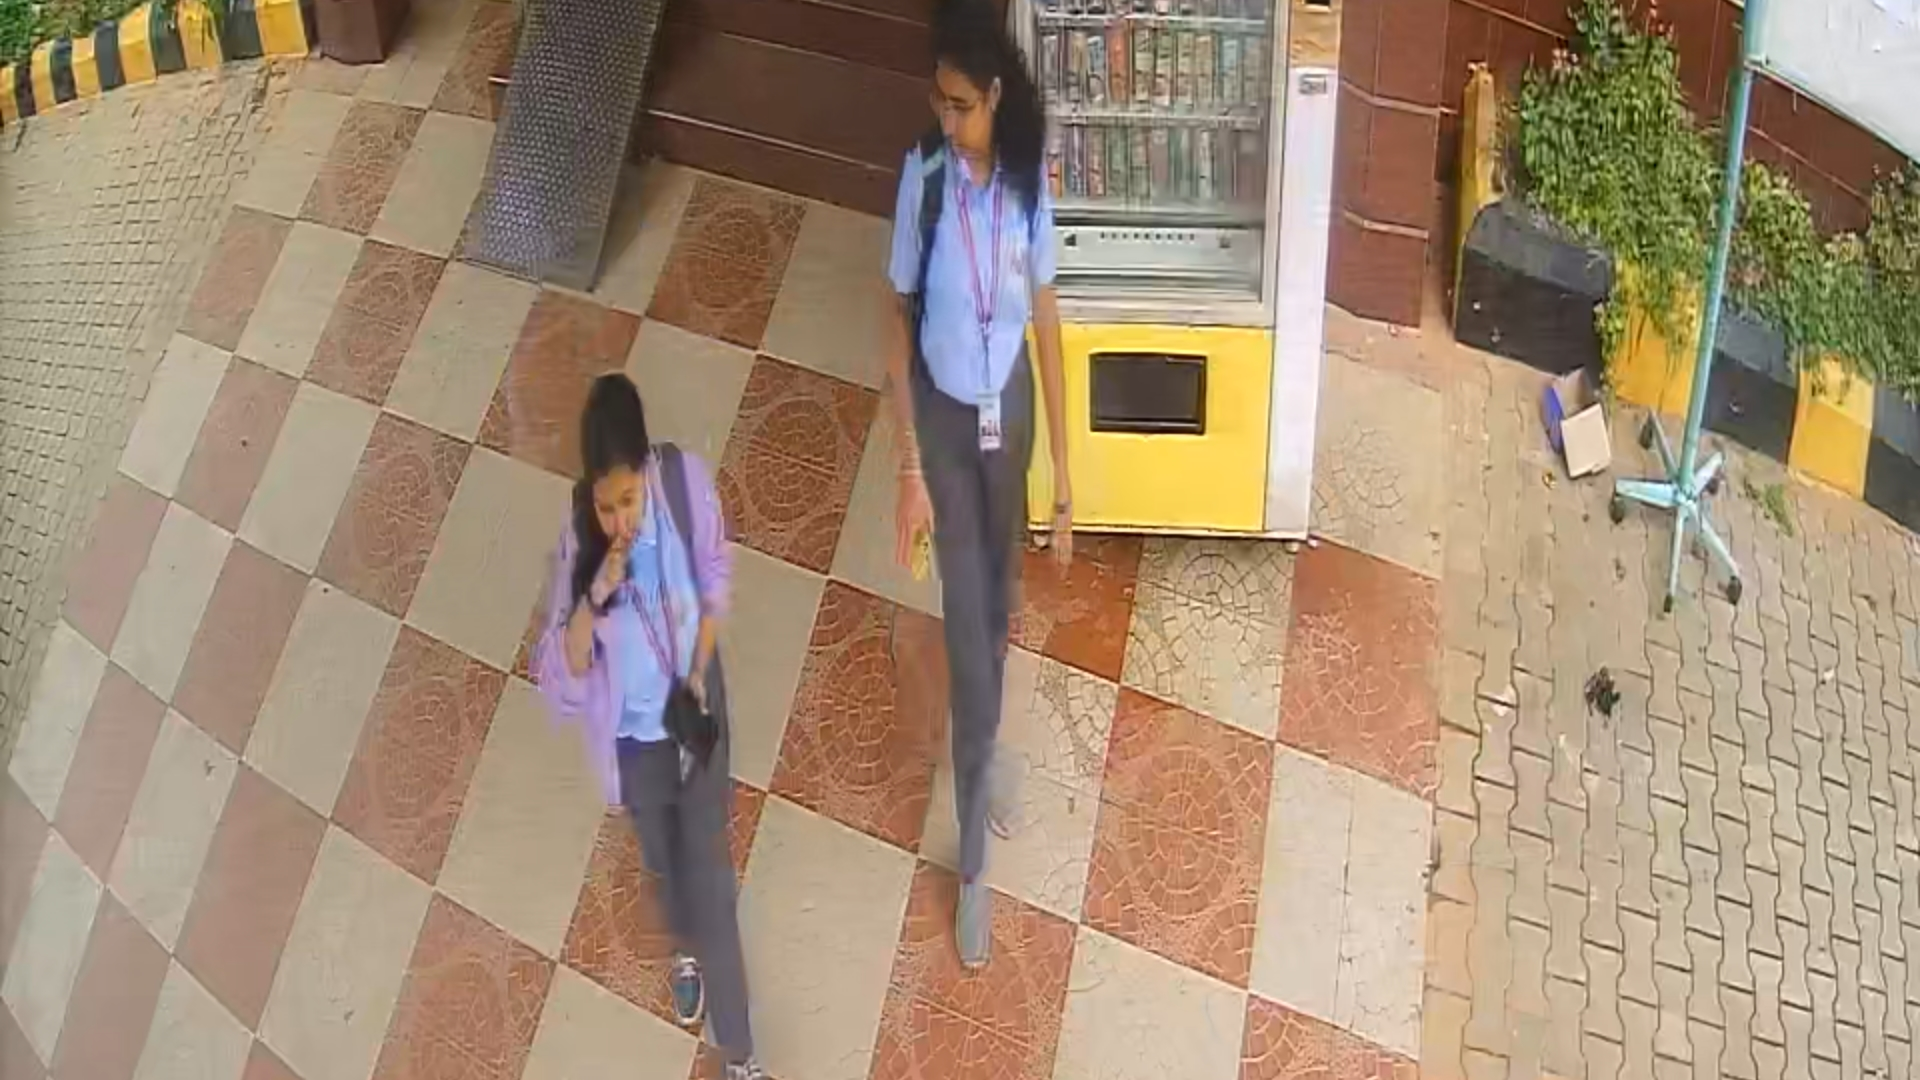not intruder: (541, 371, 793, 1080), (901, 3, 1077, 938)
